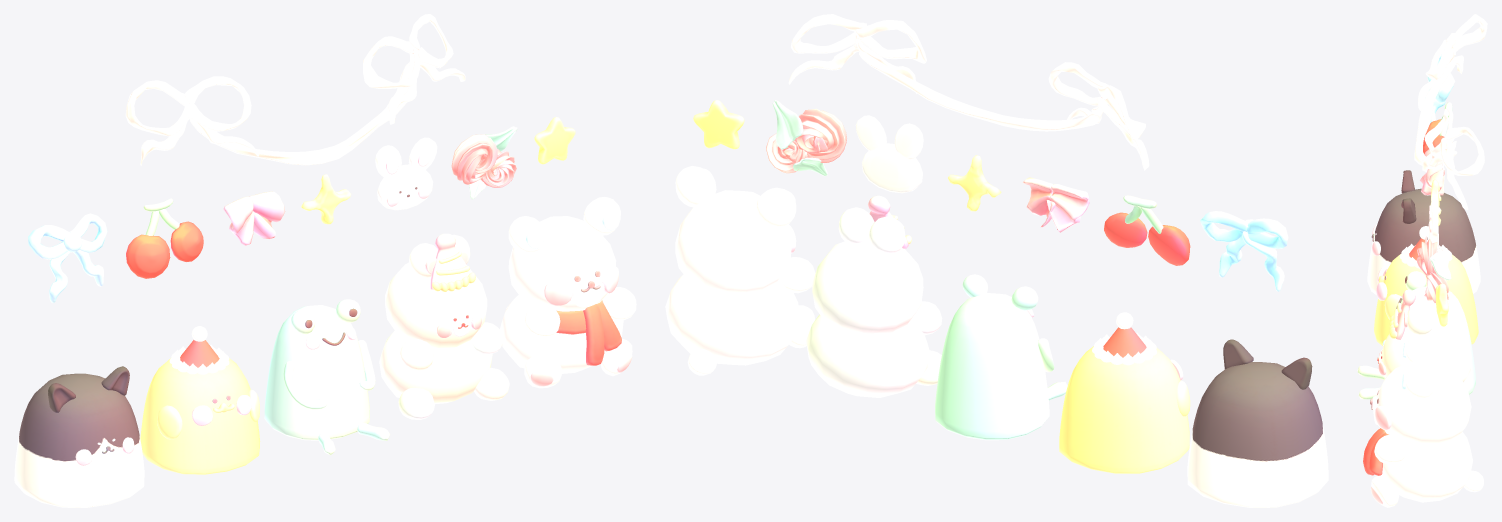
Rendered from kawaii_cute_decoration_icon_for_cake.glb.
The picture shows the model from 3 angles, left to right: view 1: azimuth 30°, elevation 25°; view 2: azimuth 150°, elevation 25°; view 3: azimuth 270°, elevation 25°; orthographic projection. The views are drawn at different scales.
Visible parts, largest first — view 1: Animal111, Animal96, Animal100, Animal142, Animal173, Animal162, Animal95, Cream_ribbon25, Rose10, Rabbit23, Cherry6, Cream_ribbon24 (+26 smaller); view 2: Animal111, Animal96, Animal100, Animal142, Animal95, Animal173, Animal162, Cream_ribbon25, Rabbit23, Rose10, Star5, Cream_ribbon18 (+22 smaller); view 3: Animal142, Animal111, Animal95, Animal100, Animal173, Cream_ribbon25, Animal96, Cream_ribbon23, Animal99, Animal125, Cream_ribbon21, Animal112 (+29 smaller).
Boxes of the visible parts, x1,y1,x2,y2 form: Animal111: (14,373,144,507); Animal96: (264,305,369,440); Animal100: (140,358,260,474); Animal142: (508,216,616,311); Animal173: (385,263,487,347); Animal162: (379,330,492,404); Animal95: (499,295,623,373); Cream_ribbon25: (190,62,409,165); Rose10: (451,134,497,184); Rabbit23: (377,164,433,210); Cherry6: (126,234,170,278); Cream_ribbon24: (184,76,251,131); Animal111: (1187,362,1328,507); Animal96: (935,293,1049,440); Animal100: (1059,346,1189,473); Animal142: (675,190,792,297); Animal95: (665,274,799,365); Animal173: (812,240,923,336); Animal162: (806,314,929,397); Cream_ribbon25: (859,51,1099,131); Rabbit23: (862,143,922,193); Rose10: (793,108,846,162); Star5: (693,100,744,149); Cream_ribbon18: (854,20,926,63); Animal142: (1376,360,1471,445); Animal111: (1367,188,1480,295); Animal95: (1382,431,1472,502); Animal100: (1374,254,1478,346); Animal173: (1380,316,1471,381); Cream_ribbon25: (1414,58,1457,169); Animal96: (1384,286,1475,394); Cream_ribbon23: (1439,126,1484,175); Animal99: (1405,367,1434,400); Animal125: (1374,434,1407,464); Cream_ribbon21: (1444,14,1487,51); Animal112: (1405,334,1435,362).
Size of the model in its own units: 0.1417 by 0.0826 by 0.0306.
1 material, 1 textured.
